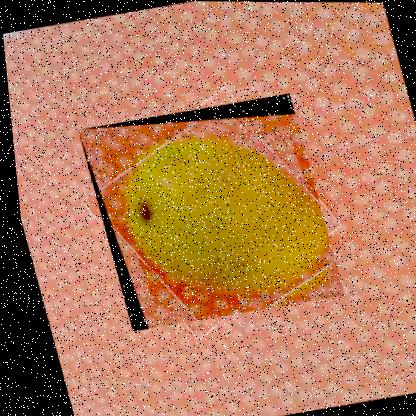mango: (71, 91, 342, 333)
